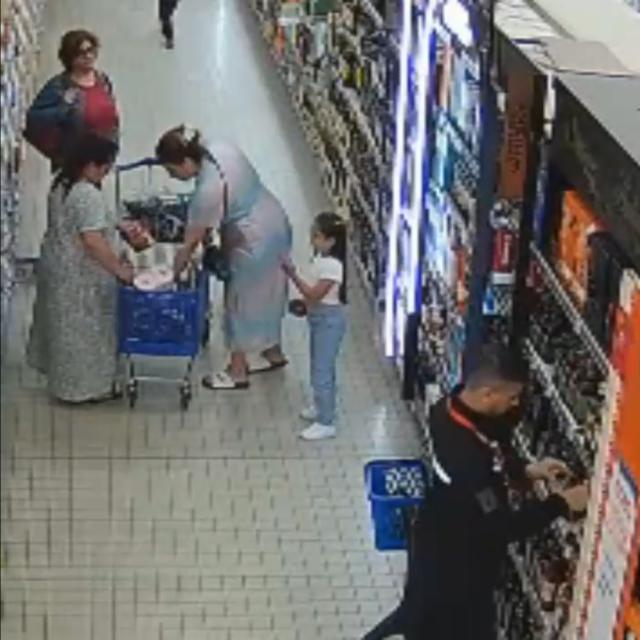article: (118, 216, 157, 253)
bags: (203, 154, 230, 282)
hands: (526, 459, 572, 482), (557, 484, 589, 513), (117, 261, 134, 285), (281, 256, 296, 277), (62, 88, 78, 106), (118, 220, 138, 230)
person: (365, 348, 588, 639), (156, 126, 292, 389), (28, 133, 133, 403), (283, 213, 346, 440), (25, 30, 119, 170)
